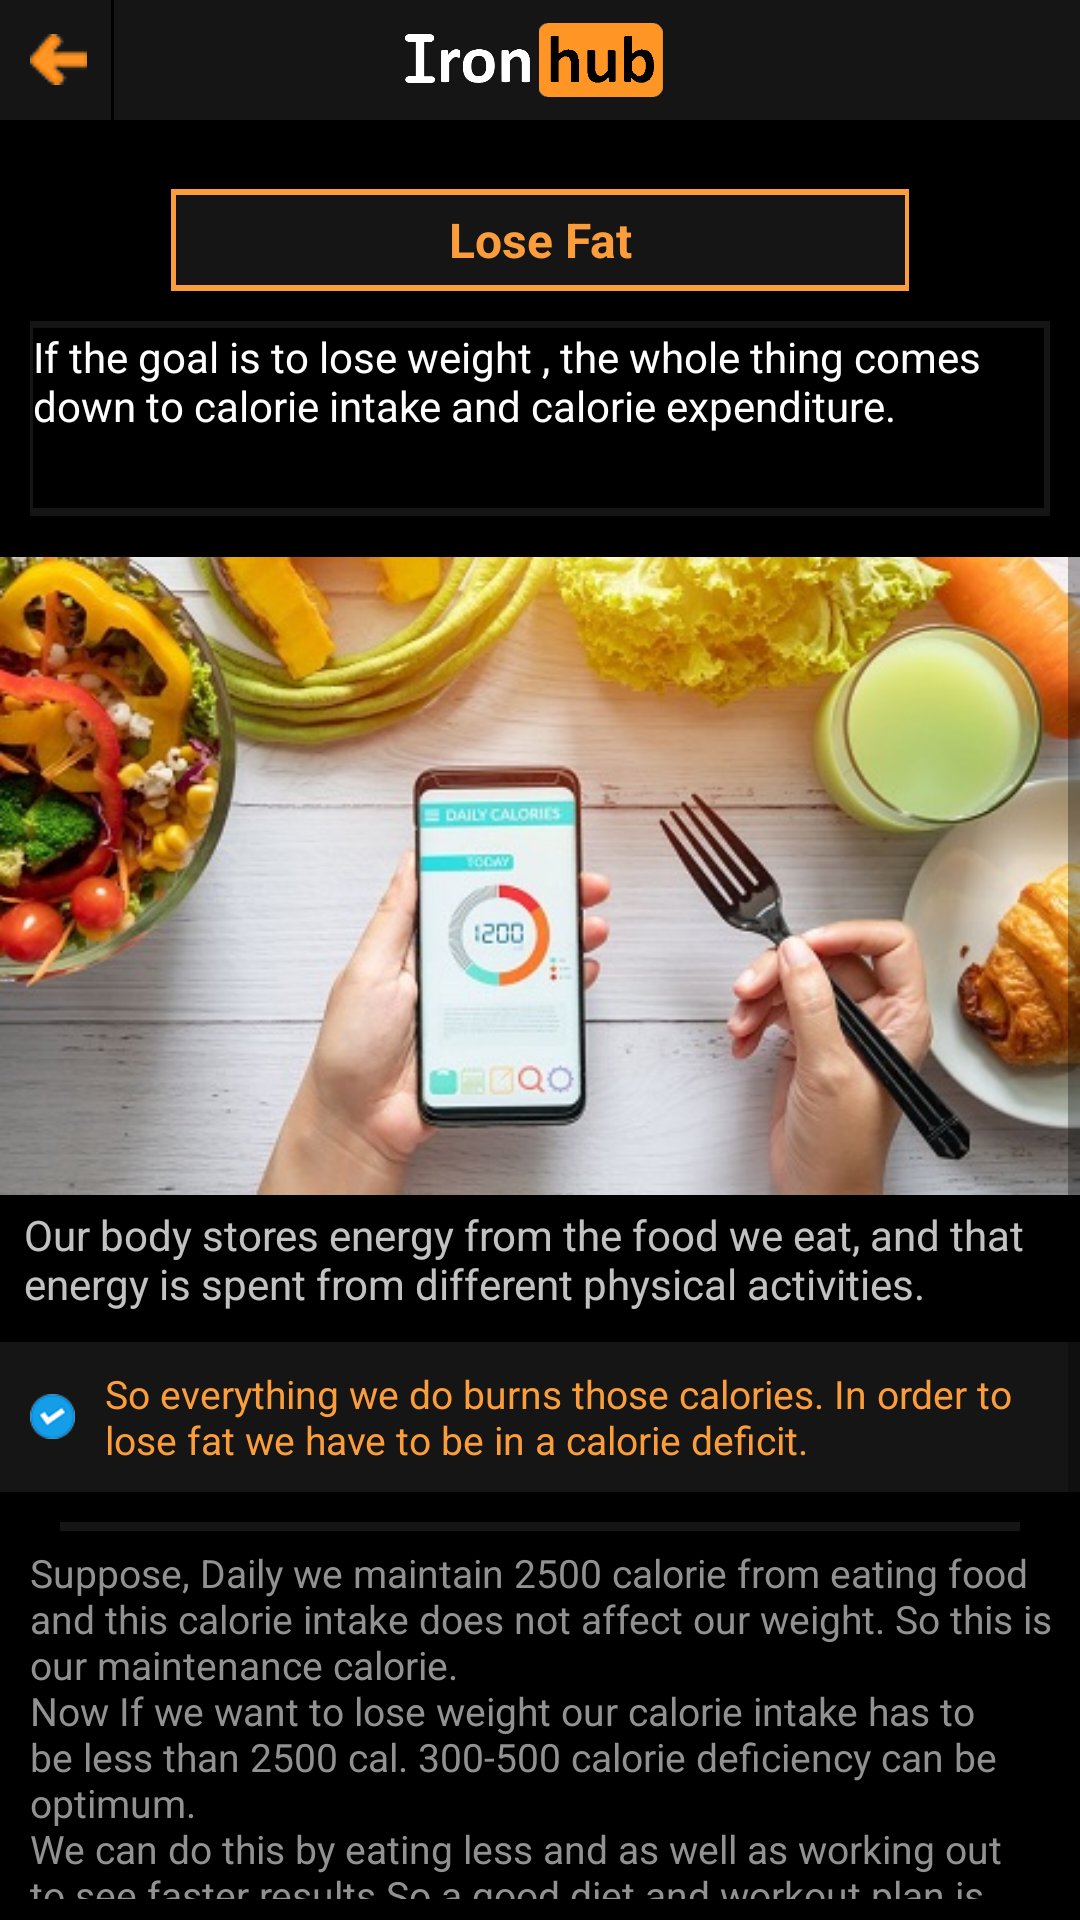

Named icons in this screenshot (1080w x 1920h) and their centers, [x,y]:
backbutton: [58,59]
tick: [52,1416]
